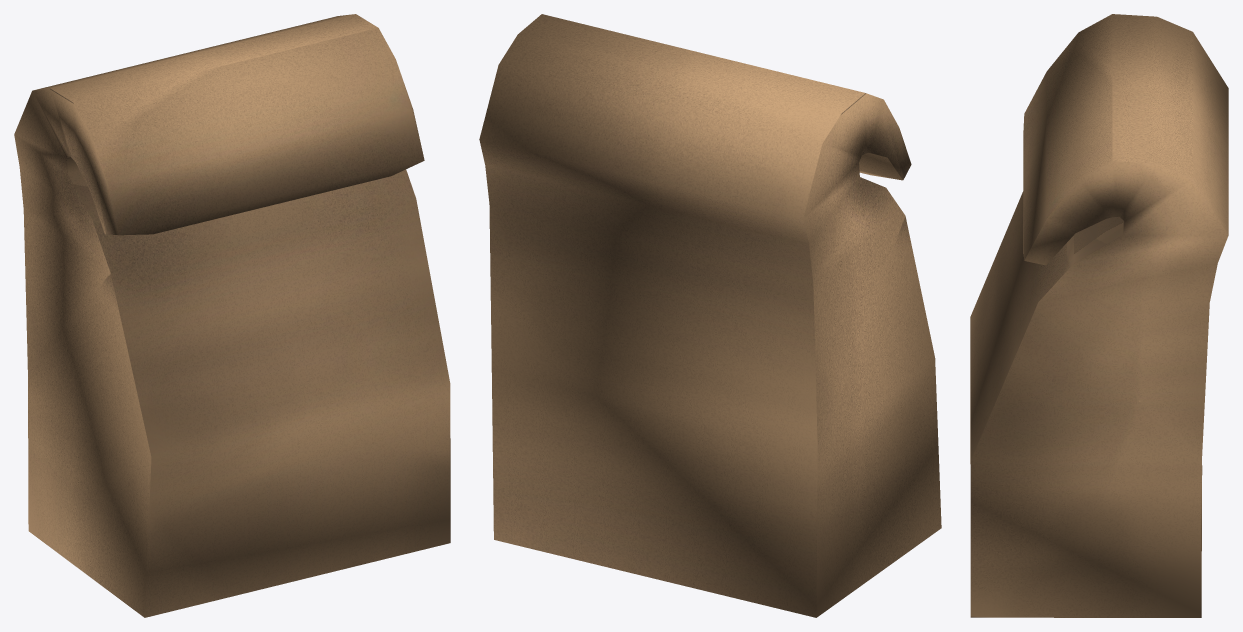
File: paper_bag.fbx
The picture shows the model from 3 angles, left to right: view 1: azimuth 30°, elevation 25°; view 2: azimuth 150°, elevation 25°; view 3: azimuth 270°, elevation 25°; orthographic projection. The views are drawn at different scales.
Parts seen in each view (by area): view 1: PaperBag; view 2: PaperBag; view 3: PaperBag.
Boxes of the visible parts, left/top/right/bottom form: PaperBag: left=14, top=14, right=450, bottom=617; PaperBag: left=479, top=14, right=941, bottom=617; PaperBag: left=970, top=14, right=1228, bottom=617.
Size of the model in its own units: 50.6 by 72.41 by 37.1.
